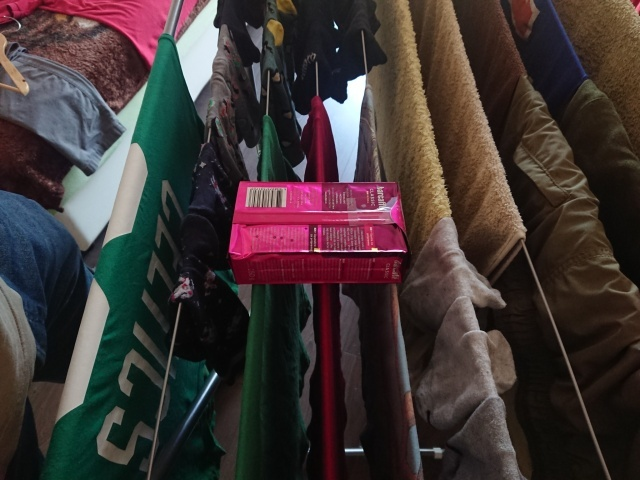Barcaffe Classic Original 225g: (225, 177, 410, 287)
